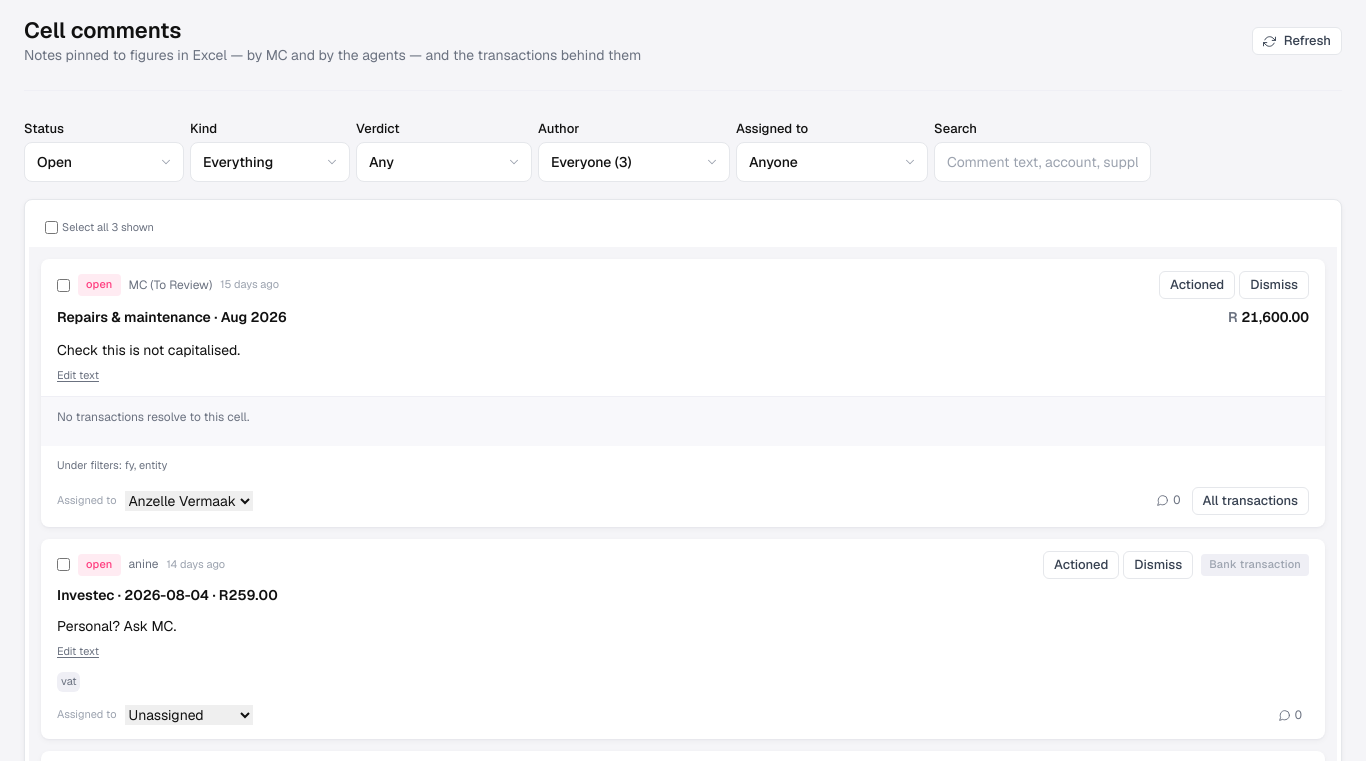
Test: AuditComments — bulk assign › reports a PARTIAL failure honestly, naming each row and the reason
Click the checkbox with test id "cc-pick-41" at (64,285), box [57,279,70,292]
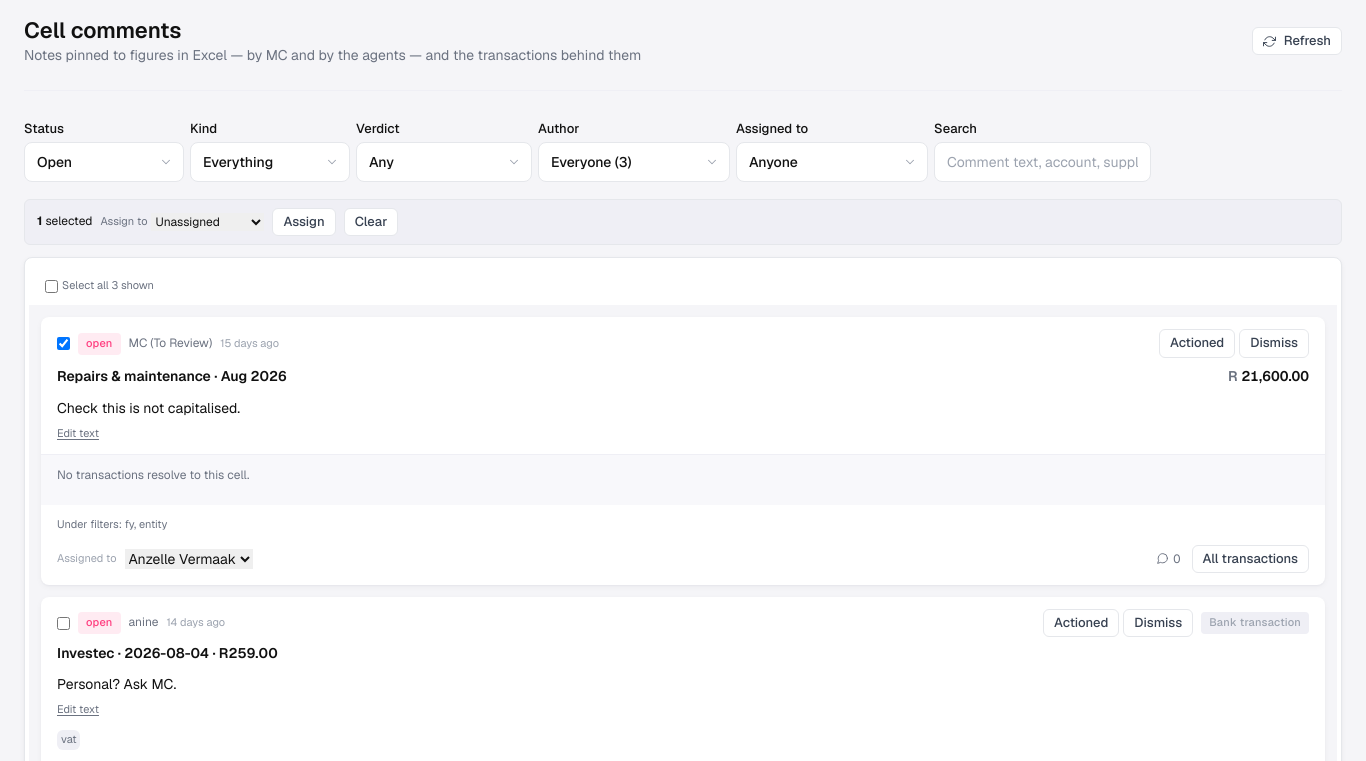
Click the checkbox named "Select for bulk assign: Investec · 2026-08-04 · R259.00" at (64,623), box [57,617,70,630]
(page scrolled)
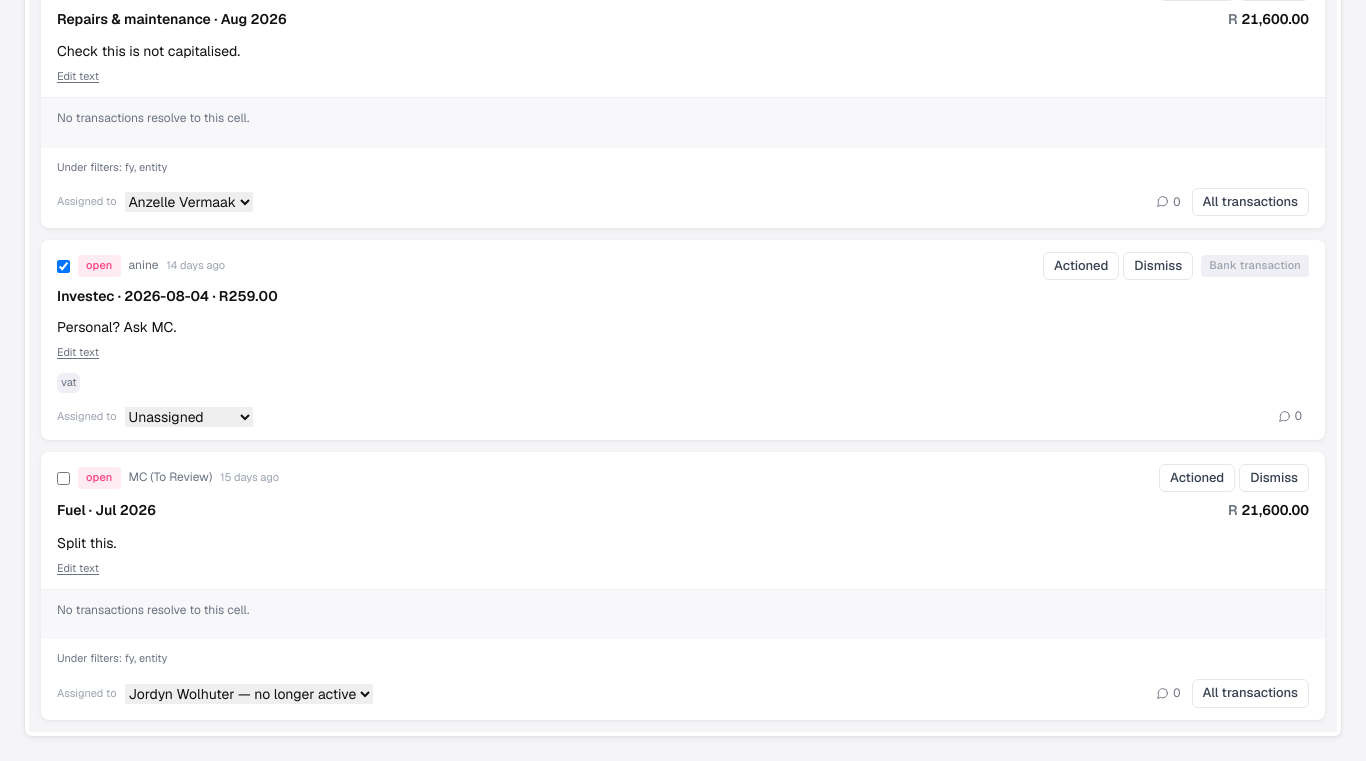
Click the checkbox named "Select for bulk assign: Fuel · Jul 2026" at (64,478), box [57,472,70,485]
(page scrolled)
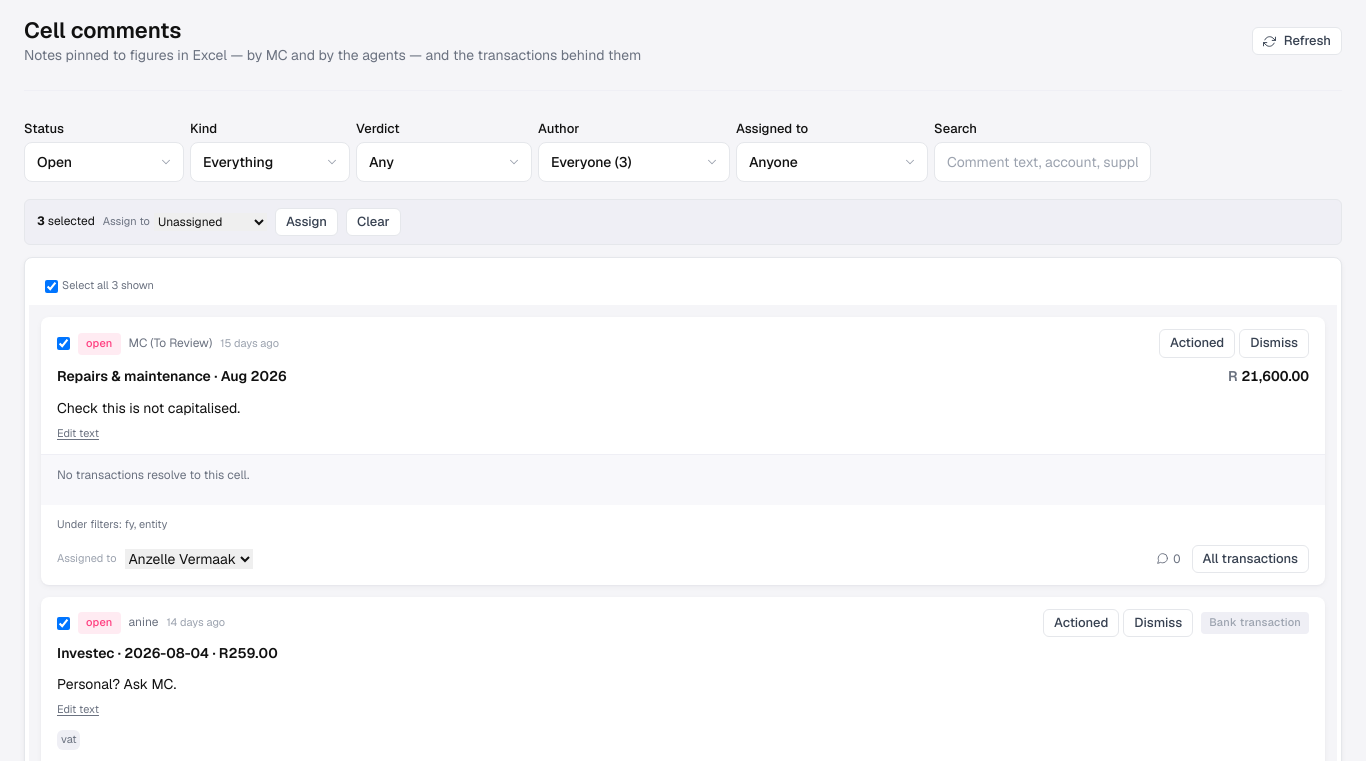
Select "George du Preez" in the dropdown with test id "cc-bulk-handle" at (210,222), box [154,213,267,231]
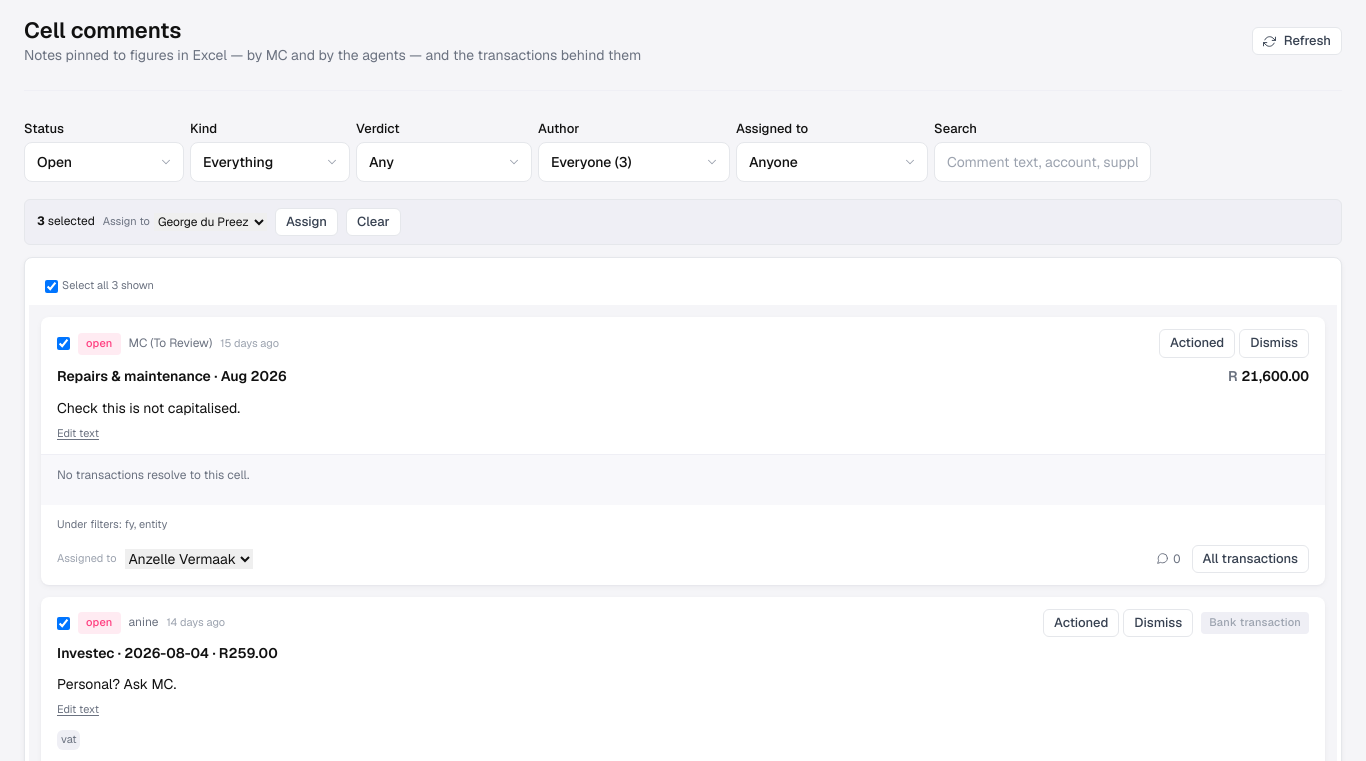
Click the button with test id "cc-bulk-apply" at (306,222), box [275,208,338,236]
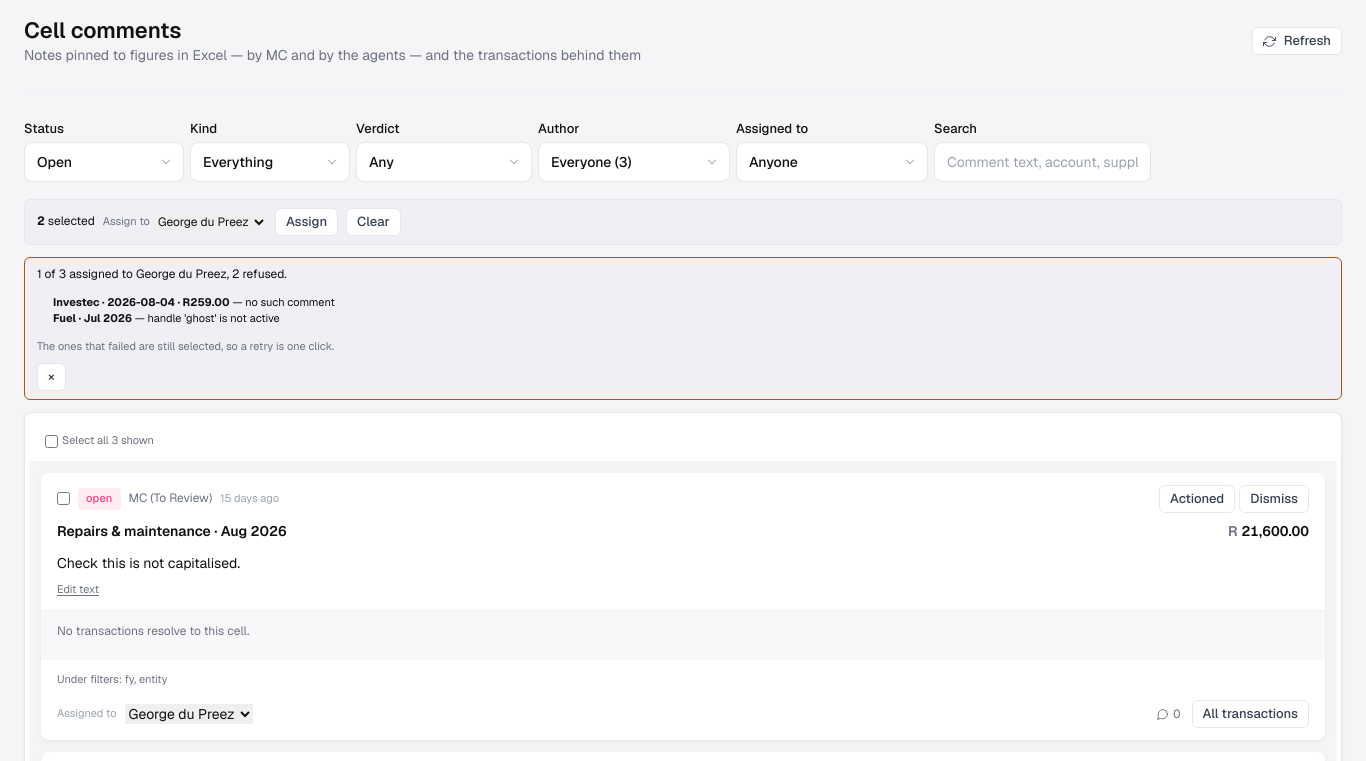
Result: the message with test id "cc-bulk-result" shows "1 of 3" at [37,266,227,282]
Result: the message with test id "cc-bulk-result" shows "2 refused" at [227,266,284,282]
Result: the number of list items with test id "cc-bulk-failure" is 2 at [53,296,335,310]; [53,311,280,325]
